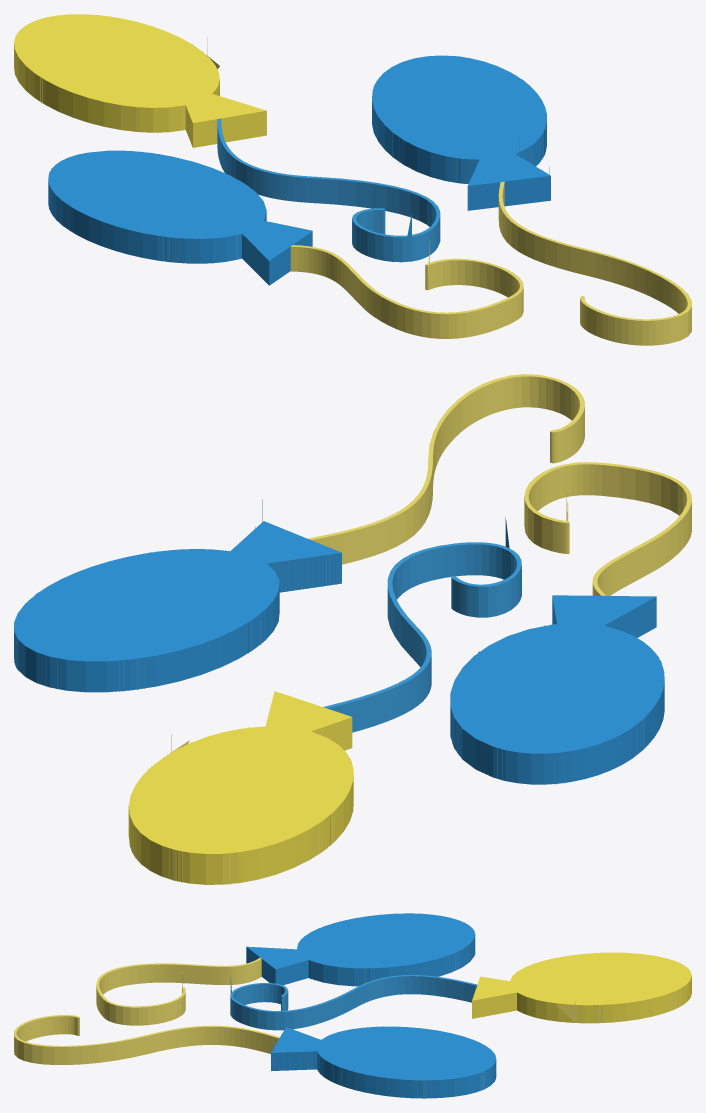
File: pinkiepie.obj
3 views of the same model, one above another, from view 1: azimuth 30°, elevation 25°; view 2: azimuth 150°, elevation 25°; view 3: azimuth 270°, elevation 25° (orthographic). The views are drawn at different scales.
Visible parts, largest first — view 1: path1; view 2: path1; view 3: path1.
Boxes of the visible parts, x1,y1,x2,y2 form: path1: (14, 14, 691, 345); path1: (14, 374, 691, 884); path1: (14, 913, 691, 1098).
Bounding box in the file's own units: 0.1978 × 0.02 × 0.3393.
